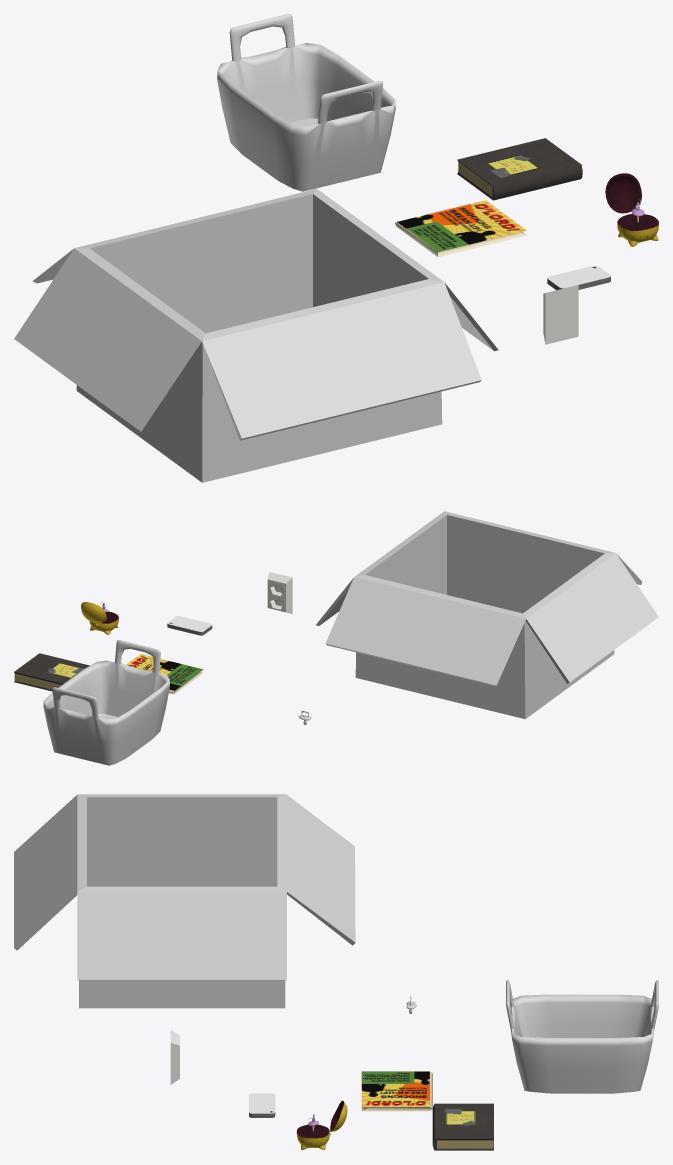
Rendered from laatikko.FBX.
3 views of the same model, one above another, from view 1: azimuth 30°, elevation 25°; view 2: azimuth 150°, elevation 25°; view 3: azimuth 270°, elevation 25° (orthographic). The views are drawn at different scales.
Parts seen in each view (by area): view 1: laatikko, kori, diary, lehti, soittorasia, pistorasia, puhelin; view 2: laatikko, kori, diary, lehti, pistorasia, soittorasia, puhelin; view 3: laatikko, kori, diary, lehti, soittorasia, puhelin.
Boxes of the visible parts, <box> form: laatikko: <box>14,189,498,482</box>; kori: <box>217,14,395,191</box>; diary: <box>457,138,582,200</box>; lehti: <box>395,200,526,257</box>; soittorasia: <box>605,173,658,246</box>; pistorasia: <box>543,285,578,344</box>; puhelin: <box>547,265,610,290</box>; laatikko: <box>316,511,658,719</box>; kori: <box>43,640,169,765</box>; diary: <box>14,653,89,691</box>; lehti: <box>126,654,203,694</box>; pistorasia: <box>267,572,292,613</box>; soittorasia: <box>81,602,118,634</box>; puhelin: <box>167,616,212,635</box>; laatikko: <box>14,794,355,1008</box>; kori: <box>506,980,658,1093</box>; diary: <box>432,1103,493,1150</box>; lehti: <box>361,1071,432,1111</box>; soittorasia: <box>296,1100,347,1150</box>; puhelin: <box>249,1093,275,1117</box>.
Bounding box in the file's own units: 78.52 × 17.5 × 81.11.
